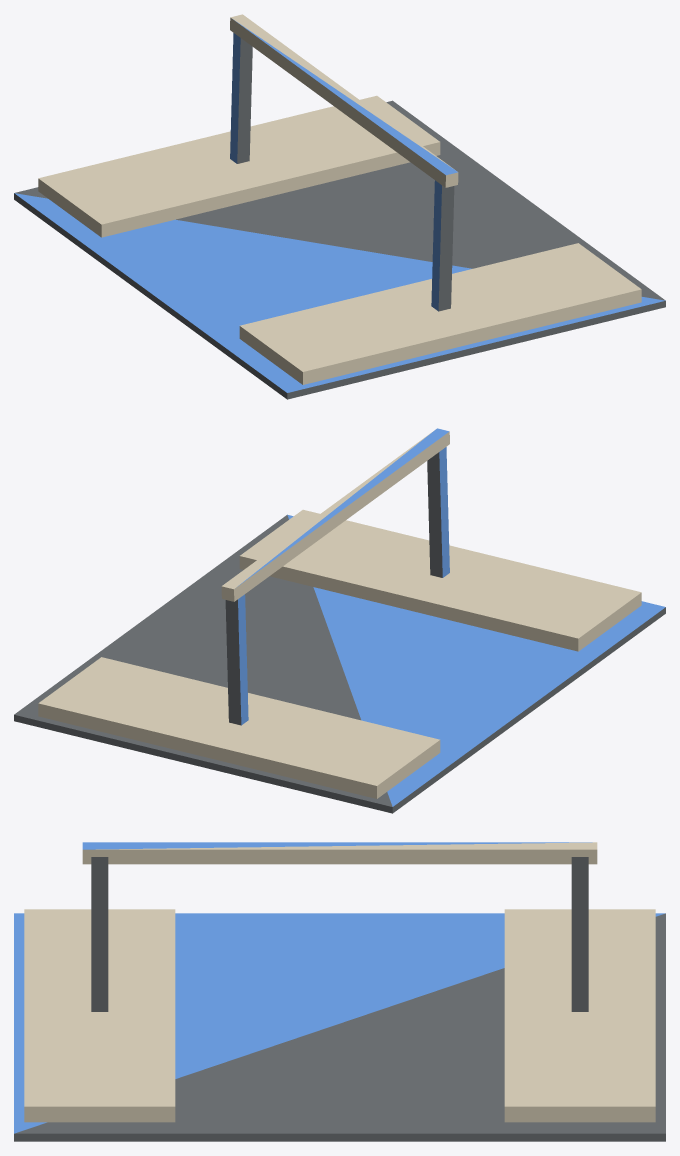
The model's file is meridian_shipyard_damaged.glb.
The picture shows the model from 3 angles, top to bottom: view 1: azimuth 30°, elevation 25°; view 2: azimuth 150°, elevation 25°; view 3: azimuth 270°, elevation 25°; orthographic projection. The views are drawn at different scales.
Visible parts, largest first — view 1: hull, crane; view 2: hull, crane; view 3: hull, crane.
Part boxes in pixels (x1=…): hull: x1=14, y1=95, x2=665, y2=399; crane: x1=230, y1=14, x2=458, y2=311; hull: x1=14, y1=509, x2=665, y2=813; crane: x1=221, y1=428, x2=449, y2=725; hull: x1=14, y1=909, x2=665, y2=1141; crane: x1=82, y1=842, x2=597, y2=1011.
Bounding box in the file's own units: 15.2 × 6.04 × 19.
